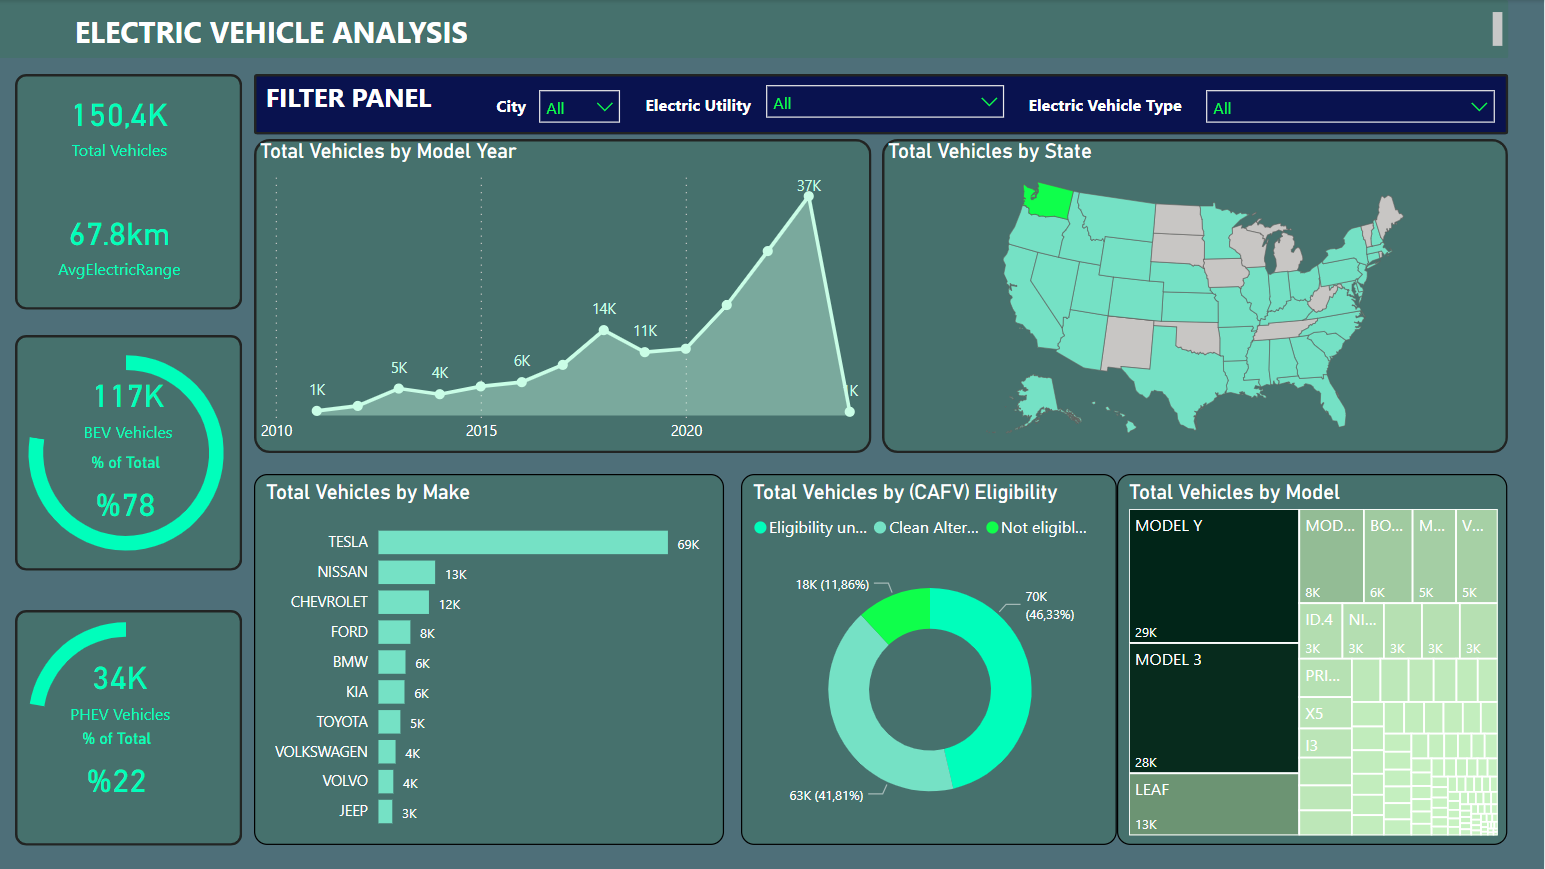

What the dashboard file says about the page in this screenshot:
{"tool":"powerbi","page":{"name":"Page 1","canvas":[1280,720],"ordinal":0},"visuals":[{"type":"shape","box":[0,0,1250,48.3],"z":0},{"type":"textbox","box":[0,5,1250,40],"z":1000},{"type":"shape","box":[14,61,188,195],"z":2000},{"type":"card","fields":{"Values":["Electric_Vehicle_Population_Data.Total Vehicle"]},"box":[14,61,173,82],"z":3000},{"type":"card","fields":{"Values":["Electric_Vehicle_Population_Data.AvgElectricRange"]},"box":[14,159,173,83],"z":4000},{"type":"shape","box":[14,277,188,195],"z":5000},{"type":"shape","box":[14,505,188,195],"z":6000},{"type":"donutChart","fields":{"Y":["Electric_Vehicle_Population_Data.Total Vehicles"],"Category":["Electric_Vehicle_Population_Data.Electric Vehicle Type"]},"box":[0,238,212,273],"z":7000},{"type":"card","fields":{"Values":["Electric_Vehicle_Population_Data.BEV Vehicles"]},"box":[54,300,108,69],"z":8000},{"type":"card","title":"% of Total","fields":{"Values":["Electric_Vehicle_Population_Data.% of BEV"]},"box":[61,375,89,68],"z":9000},{"type":"donutChart","fields":{"Y":["Electric_Vehicle_Population_Data.Total Vehicles"],"Category":["Electric_Vehicle_Population_Data.Electric Vehicle Type"]},"box":[0,472,212,248],"z":10000},{"type":"card","fields":{"Values":["Electric_Vehicle_Population_Data.PHEV Vehicles"]},"box":[47,534,108,69],"z":11000},{"type":"card","title":"% of Total","fields":{"Values":["Electric_Vehicle_Population_Data.%  of PHEV"]},"box":[54,603,89,68],"z":12000},{"type":"shape","box":[212,61,1038,50],"z":13000},{"type":"shape","box":[211.6,115,511,259.9],"z":14000},{"type":"areaChart","title":"Total Vehicles by Model Year","fields":{"Category":["Electric_Vehicle_Population_Data.Model Year"],"Y":["CountNonNull(Electric_Vehicle_Population_Data.Electric Vehicle Type)"]},"box":[211.6,115,511,259.9],"z":15000},{"type":"shape","box":[731.4,115,518,259.9],"z":16000},{"type":"shapeMap","fields":{"Category":["Electric_Vehicle_Population_Data.State"],"Value":["Electric_Vehicle_Population_Data.Total Vehicles"]},"box":[731.4,115,518,259.9],"z":17000},{"type":"barChart","fields":{"Category":["Electric_Vehicle_Population_Data.Make"],"Y":["Electric_Vehicle_Population_Data.Total Vehicles"]},"box":[211.6,392.5,389,307.3],"z":18000},{"type":"donutChart","title":"Total Vehicles by (CAFV) Eligibility","fields":{"Category":["Electric_Vehicle_Population_Data.Clean Alternative Fuel Vehicle (CAFV) Eligibility"],"Y":["Electric_Vehicle_Population_Data.Total Vehicles"]},"box":[614.6,392.5,310.8,307.3],"z":19000},{"type":"treemap","fields":{"Group":["Electric_Vehicle_Population_Data.Model"],"Values":["Electric_Vehicle_Population_Data.Total Vehicles"]},"box":[926,392,323,307],"z":20000},{"type":"textbox","box":[211.6,60.6,156.3,54.4],"z":21000},{"type":"slicer","fields":{"Values":["Electric_Vehicle_Population_Data.City"]},"box":[438.2,64.7,87.1,43.1],"z":22000},{"type":"textbox","box":[381.2,73.3,86.3,29.3],"z":23000},{"type":"textbox","box":[525.3,72.5,107.8,29.3],"z":24000},{"type":"slicer","fields":{"Values":["Electric_Vehicle_Population_Data.Electric Utility"]},"box":[625.3,60.4,217.4,43.1],"z":25000},{"type":"textbox","box":[842.7,72.5,147.5,29.3],"z":26000},{"type":"slicer","fields":{"Values":["Electric_Vehicle_Population_Data.Electric Vehicle Type"]},"box":[990.2,64.7,258.8,43.1],"z":26001}]}

Visuals, with their boxes in screenshot pixels (x1, y1, x2, y2), scaled from the page's 1280x720 canvas onto the 1545x869 screenshot:
shape: l=0, t=0, r=1509, b=58
textbox: l=0, t=6, r=1509, b=54
shape: l=17, t=74, r=244, b=309
card - Electric_Vehicle_Population_Data.Total Vehicle: l=17, t=74, r=226, b=173
card - Electric_Vehicle_Population_Data.AvgElectricRange: l=17, t=192, r=226, b=292
shape: l=17, t=334, r=244, b=570
shape: l=17, t=610, r=244, b=845
donutChart - Electric_Vehicle_Population_Data.Total Vehicles x Electric_Vehicle_Population_Data.Electric Vehicle Type: l=0, t=287, r=256, b=617
card - Electric_Vehicle_Population_Data.BEV Vehicles: l=65, t=362, r=196, b=445
"% of Total" card: l=74, t=453, r=181, b=535
donutChart - Electric_Vehicle_Population_Data.Total Vehicles x Electric_Vehicle_Population_Data.Electric Vehicle Type: l=0, t=570, r=256, b=868
card - Electric_Vehicle_Population_Data.PHEV Vehicles: l=57, t=645, r=187, b=728
"% of Total" card: l=65, t=728, r=173, b=810
shape: l=256, t=74, r=1509, b=134
shape: l=255, t=139, r=872, b=452
"Total Vehicles by Model Year" areaChart: l=255, t=139, r=872, b=452
shape: l=883, t=139, r=1508, b=452
shapeMap - Electric_Vehicle_Population_Data.State x Electric_Vehicle_Population_Data.Total Vehicles: l=883, t=139, r=1508, b=452
barChart - Electric_Vehicle_Population_Data.Make x Electric_Vehicle_Population_Data.Total Vehicles: l=255, t=474, r=725, b=845
"Total Vehicles by (CAFV) Eligibility" donutChart: l=742, t=474, r=1117, b=845
treemap - Electric_Vehicle_Population_Data.Model x Electric_Vehicle_Population_Data.Total Vehicles: l=1118, t=473, r=1508, b=844
textbox: l=255, t=73, r=444, b=139
slicer - Electric_Vehicle_Population_Data.City: l=529, t=78, r=634, b=130
textbox: l=460, t=88, r=564, b=124
textbox: l=634, t=88, r=764, b=123
slicer - Electric_Vehicle_Population_Data.Electric Utility: l=755, t=73, r=1017, b=125
textbox: l=1017, t=88, r=1195, b=123
slicer - Electric_Vehicle_Population_Data.Electric Vehicle Type: l=1195, t=78, r=1508, b=130
